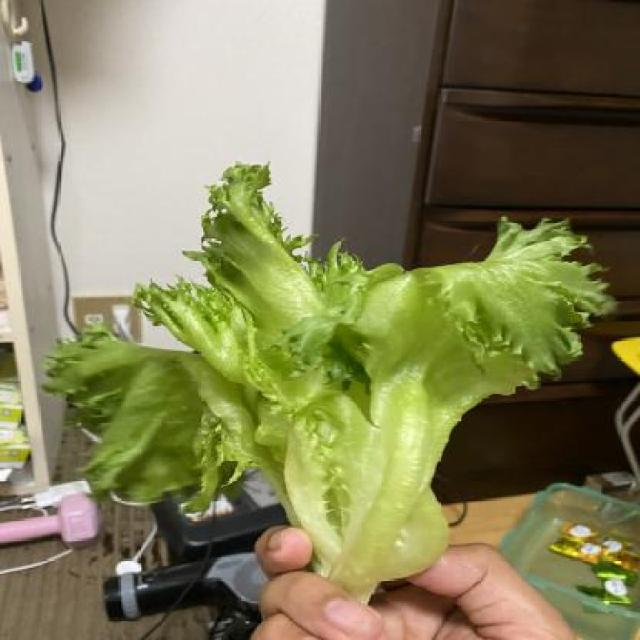plant: (94, 168, 569, 569)
